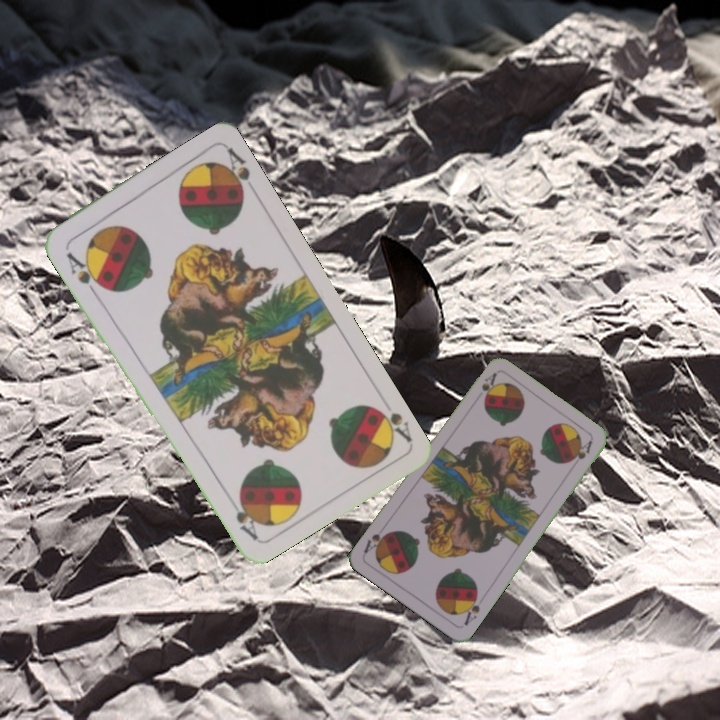SA: (366, 400, 414, 447), (62, 248, 107, 297), (459, 589, 482, 628), (477, 369, 499, 402)
